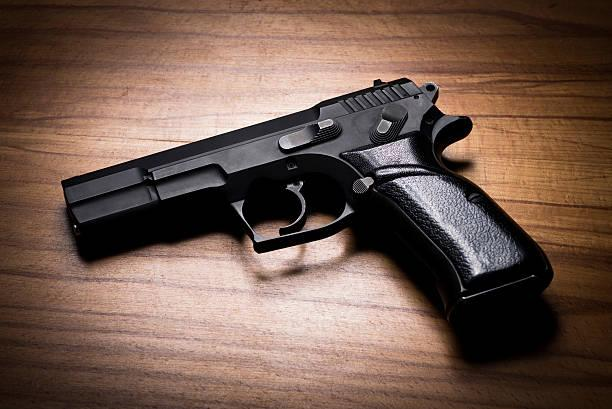weapon: (51, 68, 554, 334)
